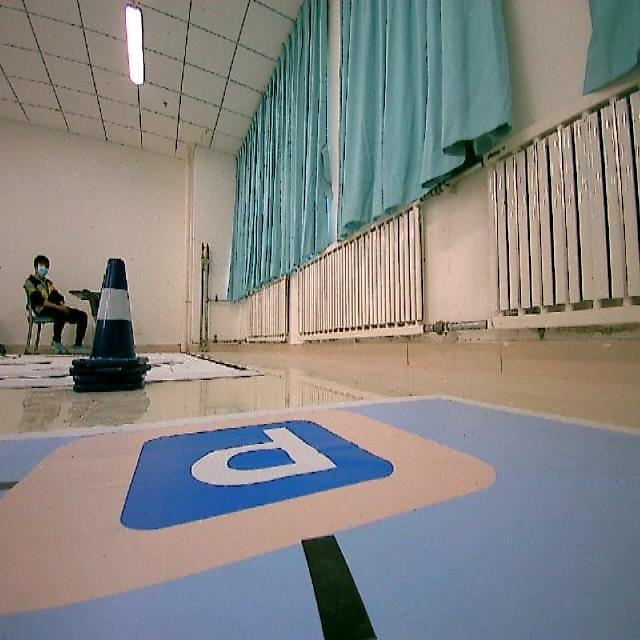obstacle: (74, 251, 152, 403)
